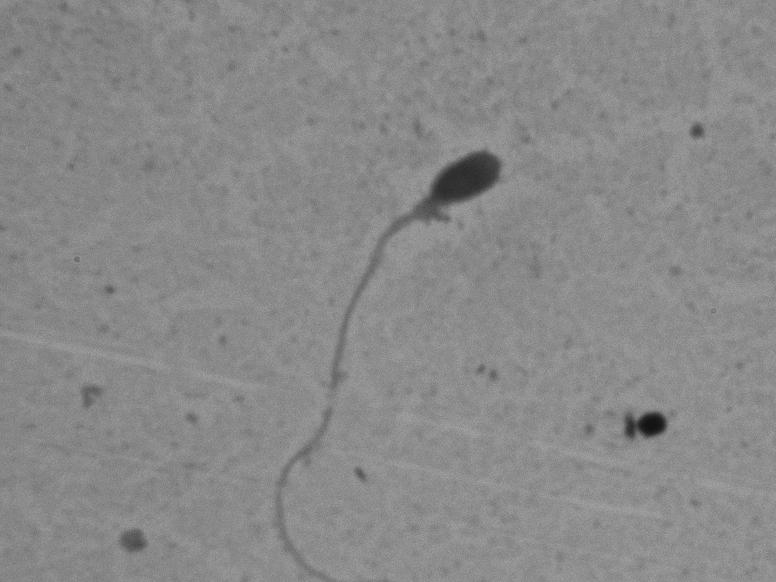Abnormal: (251, 134, 563, 576)
